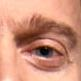eye: (37, 48, 53, 57)
